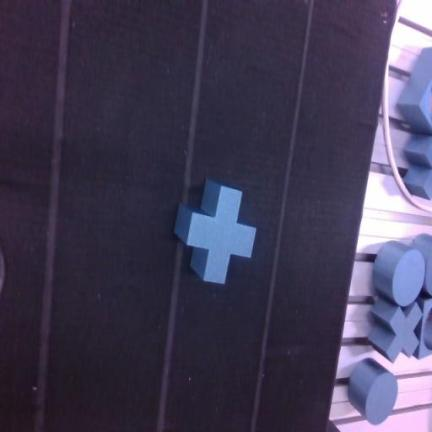cross: (175, 179, 255, 283), (369, 299, 421, 361)
